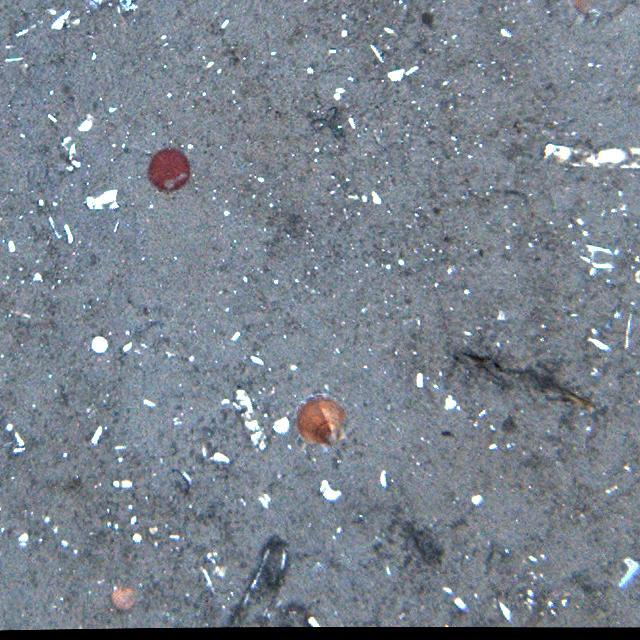scallop: (295, 395, 353, 447)
